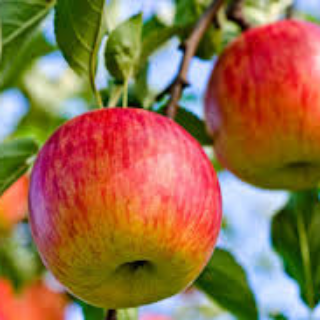tao: (26, 103, 226, 313)
